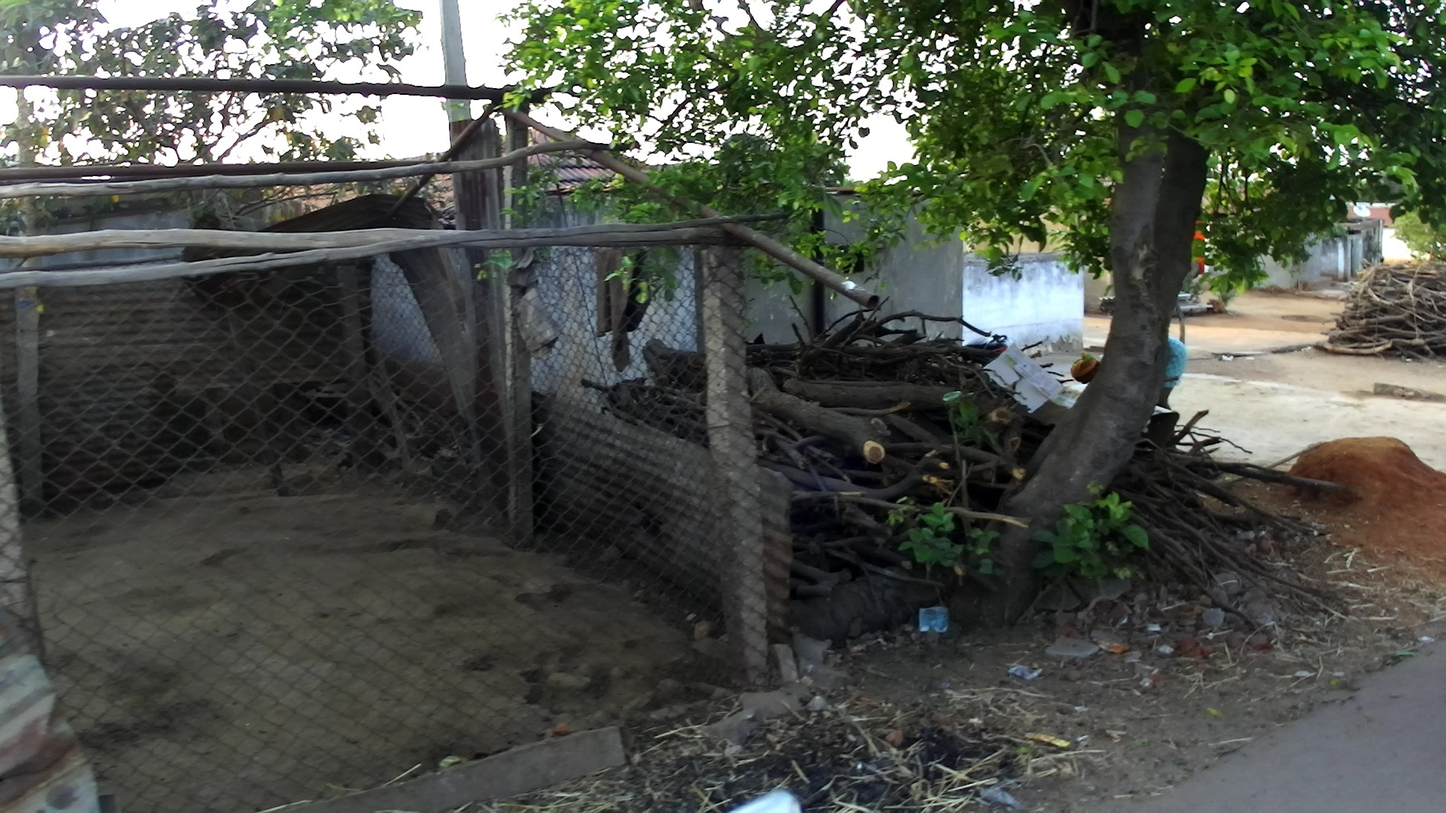person: (1070, 338, 1187, 413)
